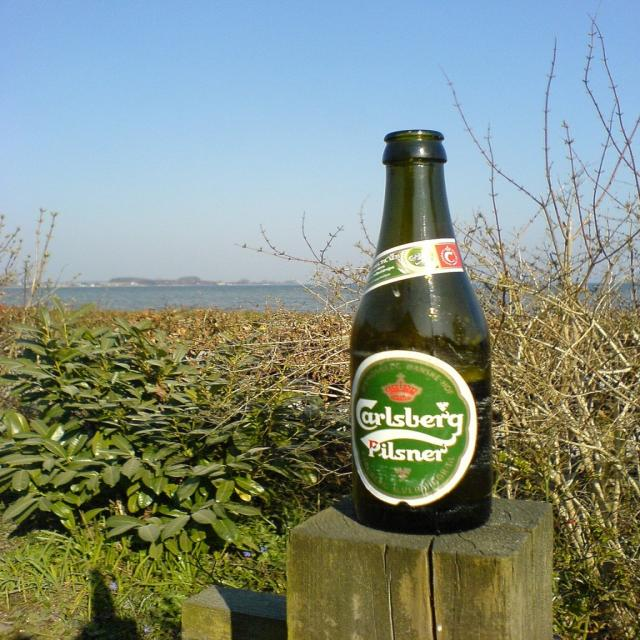carlsberg: (349, 351, 482, 509)
